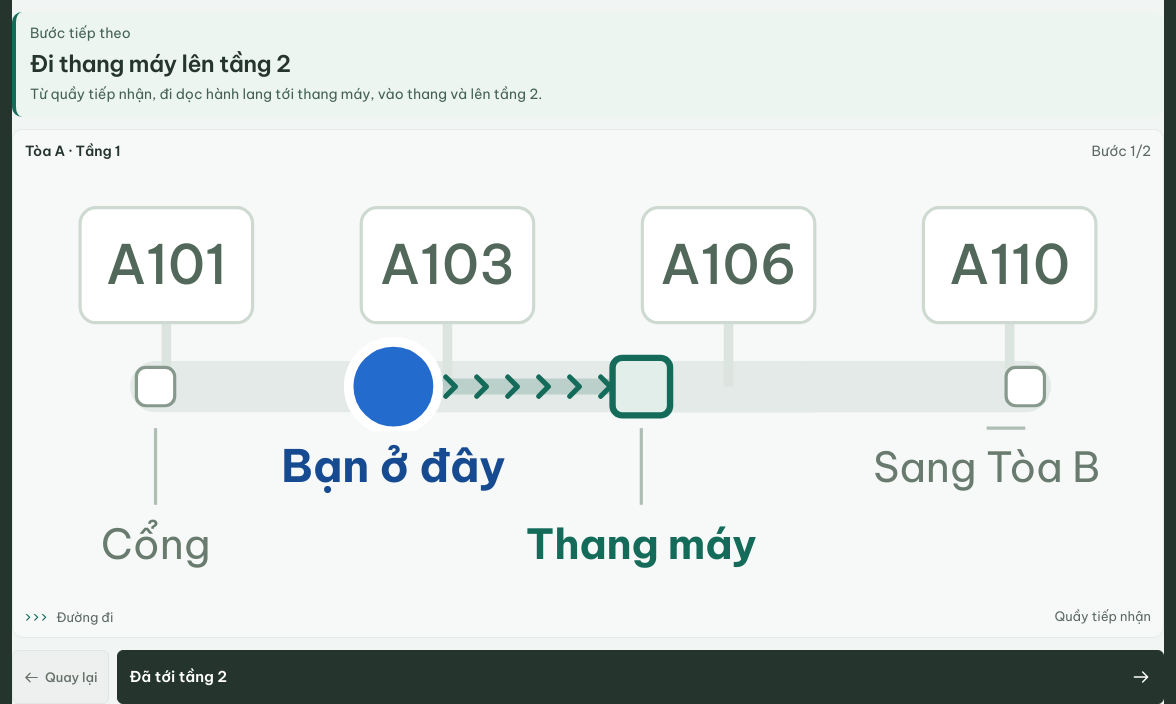
Test: current destination guidance › automatically reroutes on external position changes and removes obsolete back steps
(page scrolled)
What coordinates should you click on to do the following:
click the button "Đã tới tầng 2"
I would click on:
 (178, 677)
Its box is left=117, top=650, right=1164, bottom=703.
(page scrolled)
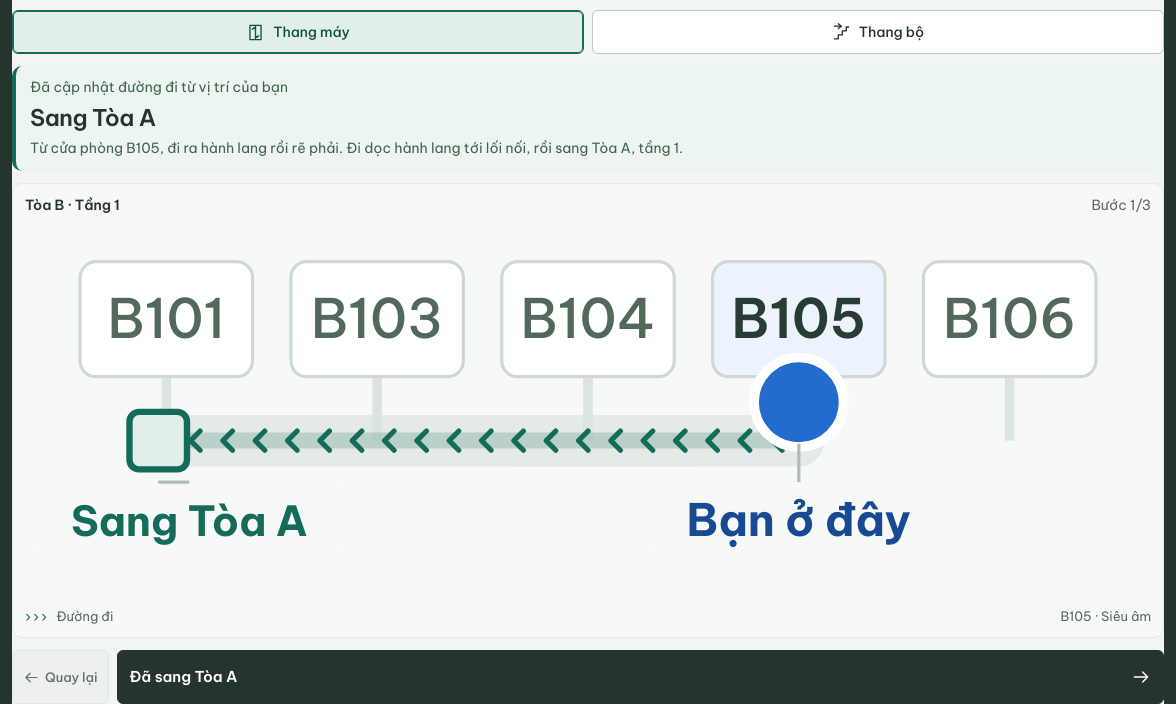
Expected: the button "Quay lại" is disabled, left=12, top=650, right=109, bottom=703
Result: the message "Đã cập nhật đường đi từ vị trí của bạn" is shown at left=30, top=78, right=288, bottom=96
Result: the element with class "guided-stage-title" shows "Tòa B" at left=25, top=196, right=120, bottom=214
